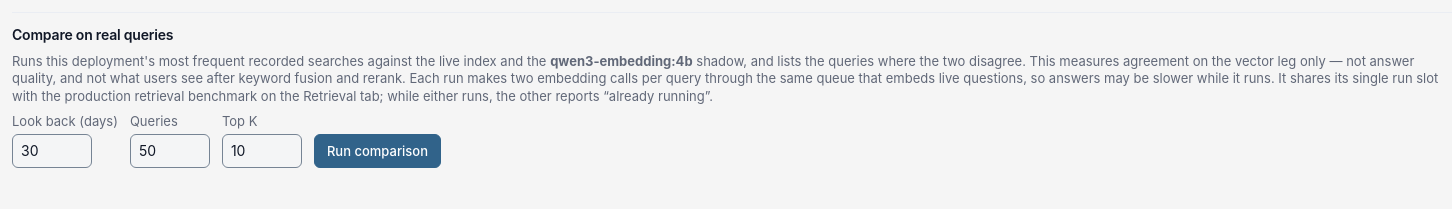
Test case: EmbeddingShadowCompareSection (#1260) › starts a run with the chosen knobs and renders progress from the poll
Step 1. Replace the text in the number field with test id "shadow-compare-days" with "14" → coordinates (52, 151), box x1=12 y1=134 x2=92 y2=168
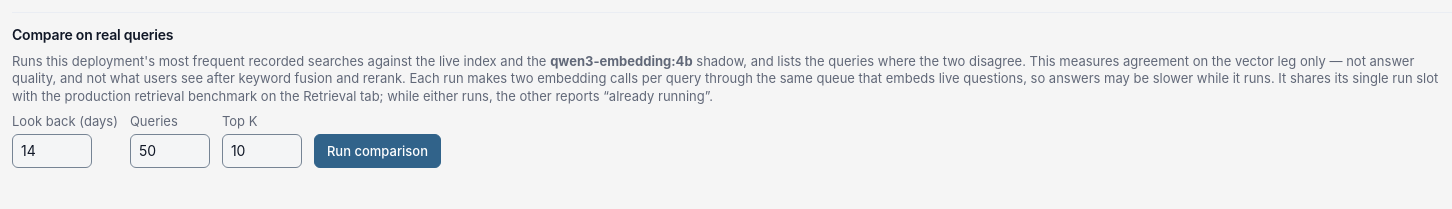
Step 2. Replace the text in the number field with test id "shadow-compare-limit" with "20" → coordinates (170, 151), box x1=130 y1=134 x2=210 y2=168
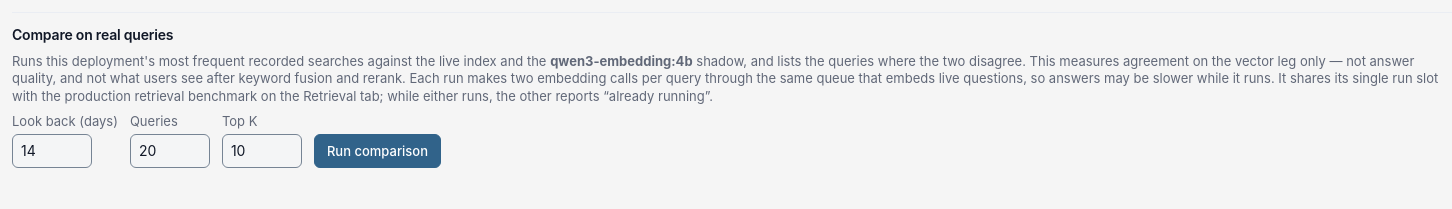
Step 3. Replace the text in the number field with test id "shadow-compare-topk" with "5" → coordinates (262, 151), box x1=222 y1=134 x2=302 y2=168
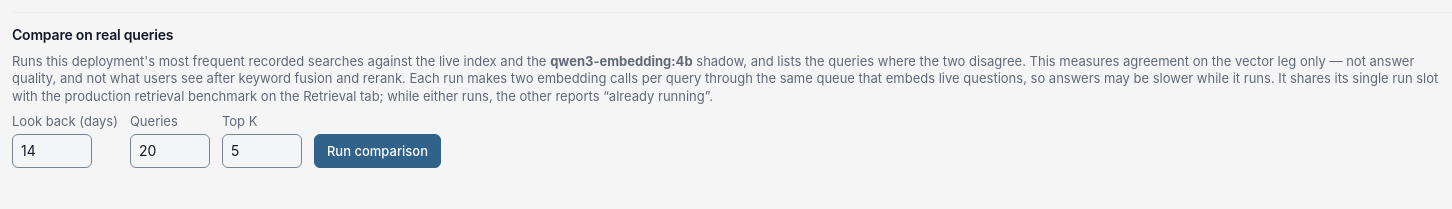
Step 4. Click the button with test id "shadow-compare-start" → coordinates (377, 151), box x1=314 y1=134 x2=441 y2=168
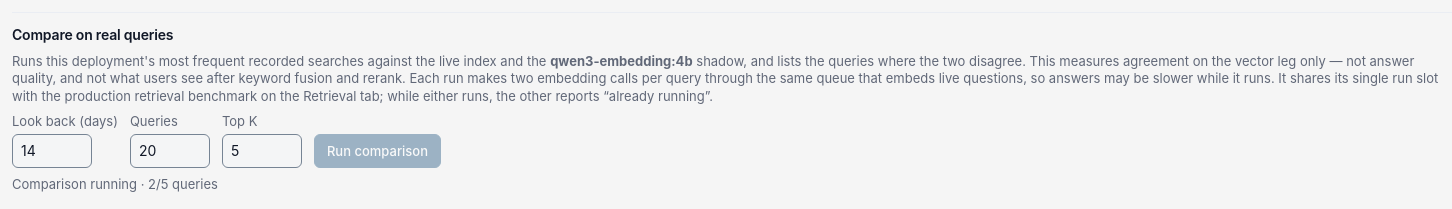
Now the text with test id "shadow-compare-progress" shows "2/5", box x1=12 y1=176 x2=218 y2=192
Now the button with test id "shadow-compare-start" is disabled, box x1=314 y1=134 x2=441 y2=168
